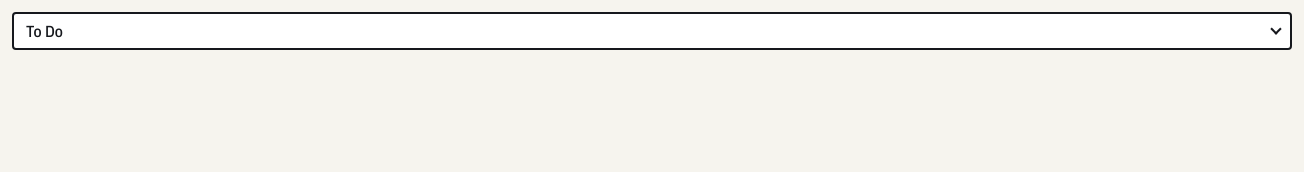
Scenario: Combobox create option › is not offered for an existing name (any case), for blank text, or without onCreate
Earlier steps of the test are not shown.
Replace the text in the dropdown named "Lane for Design" with "Design" at (652, 31), box [12,12,1292,50]
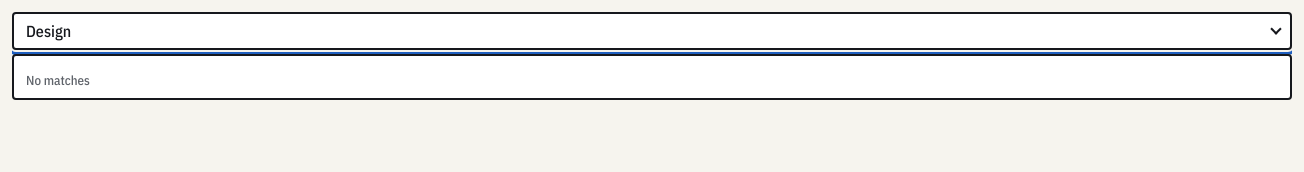
Result: the text "No matches" is shown at [26,72,90,88]
